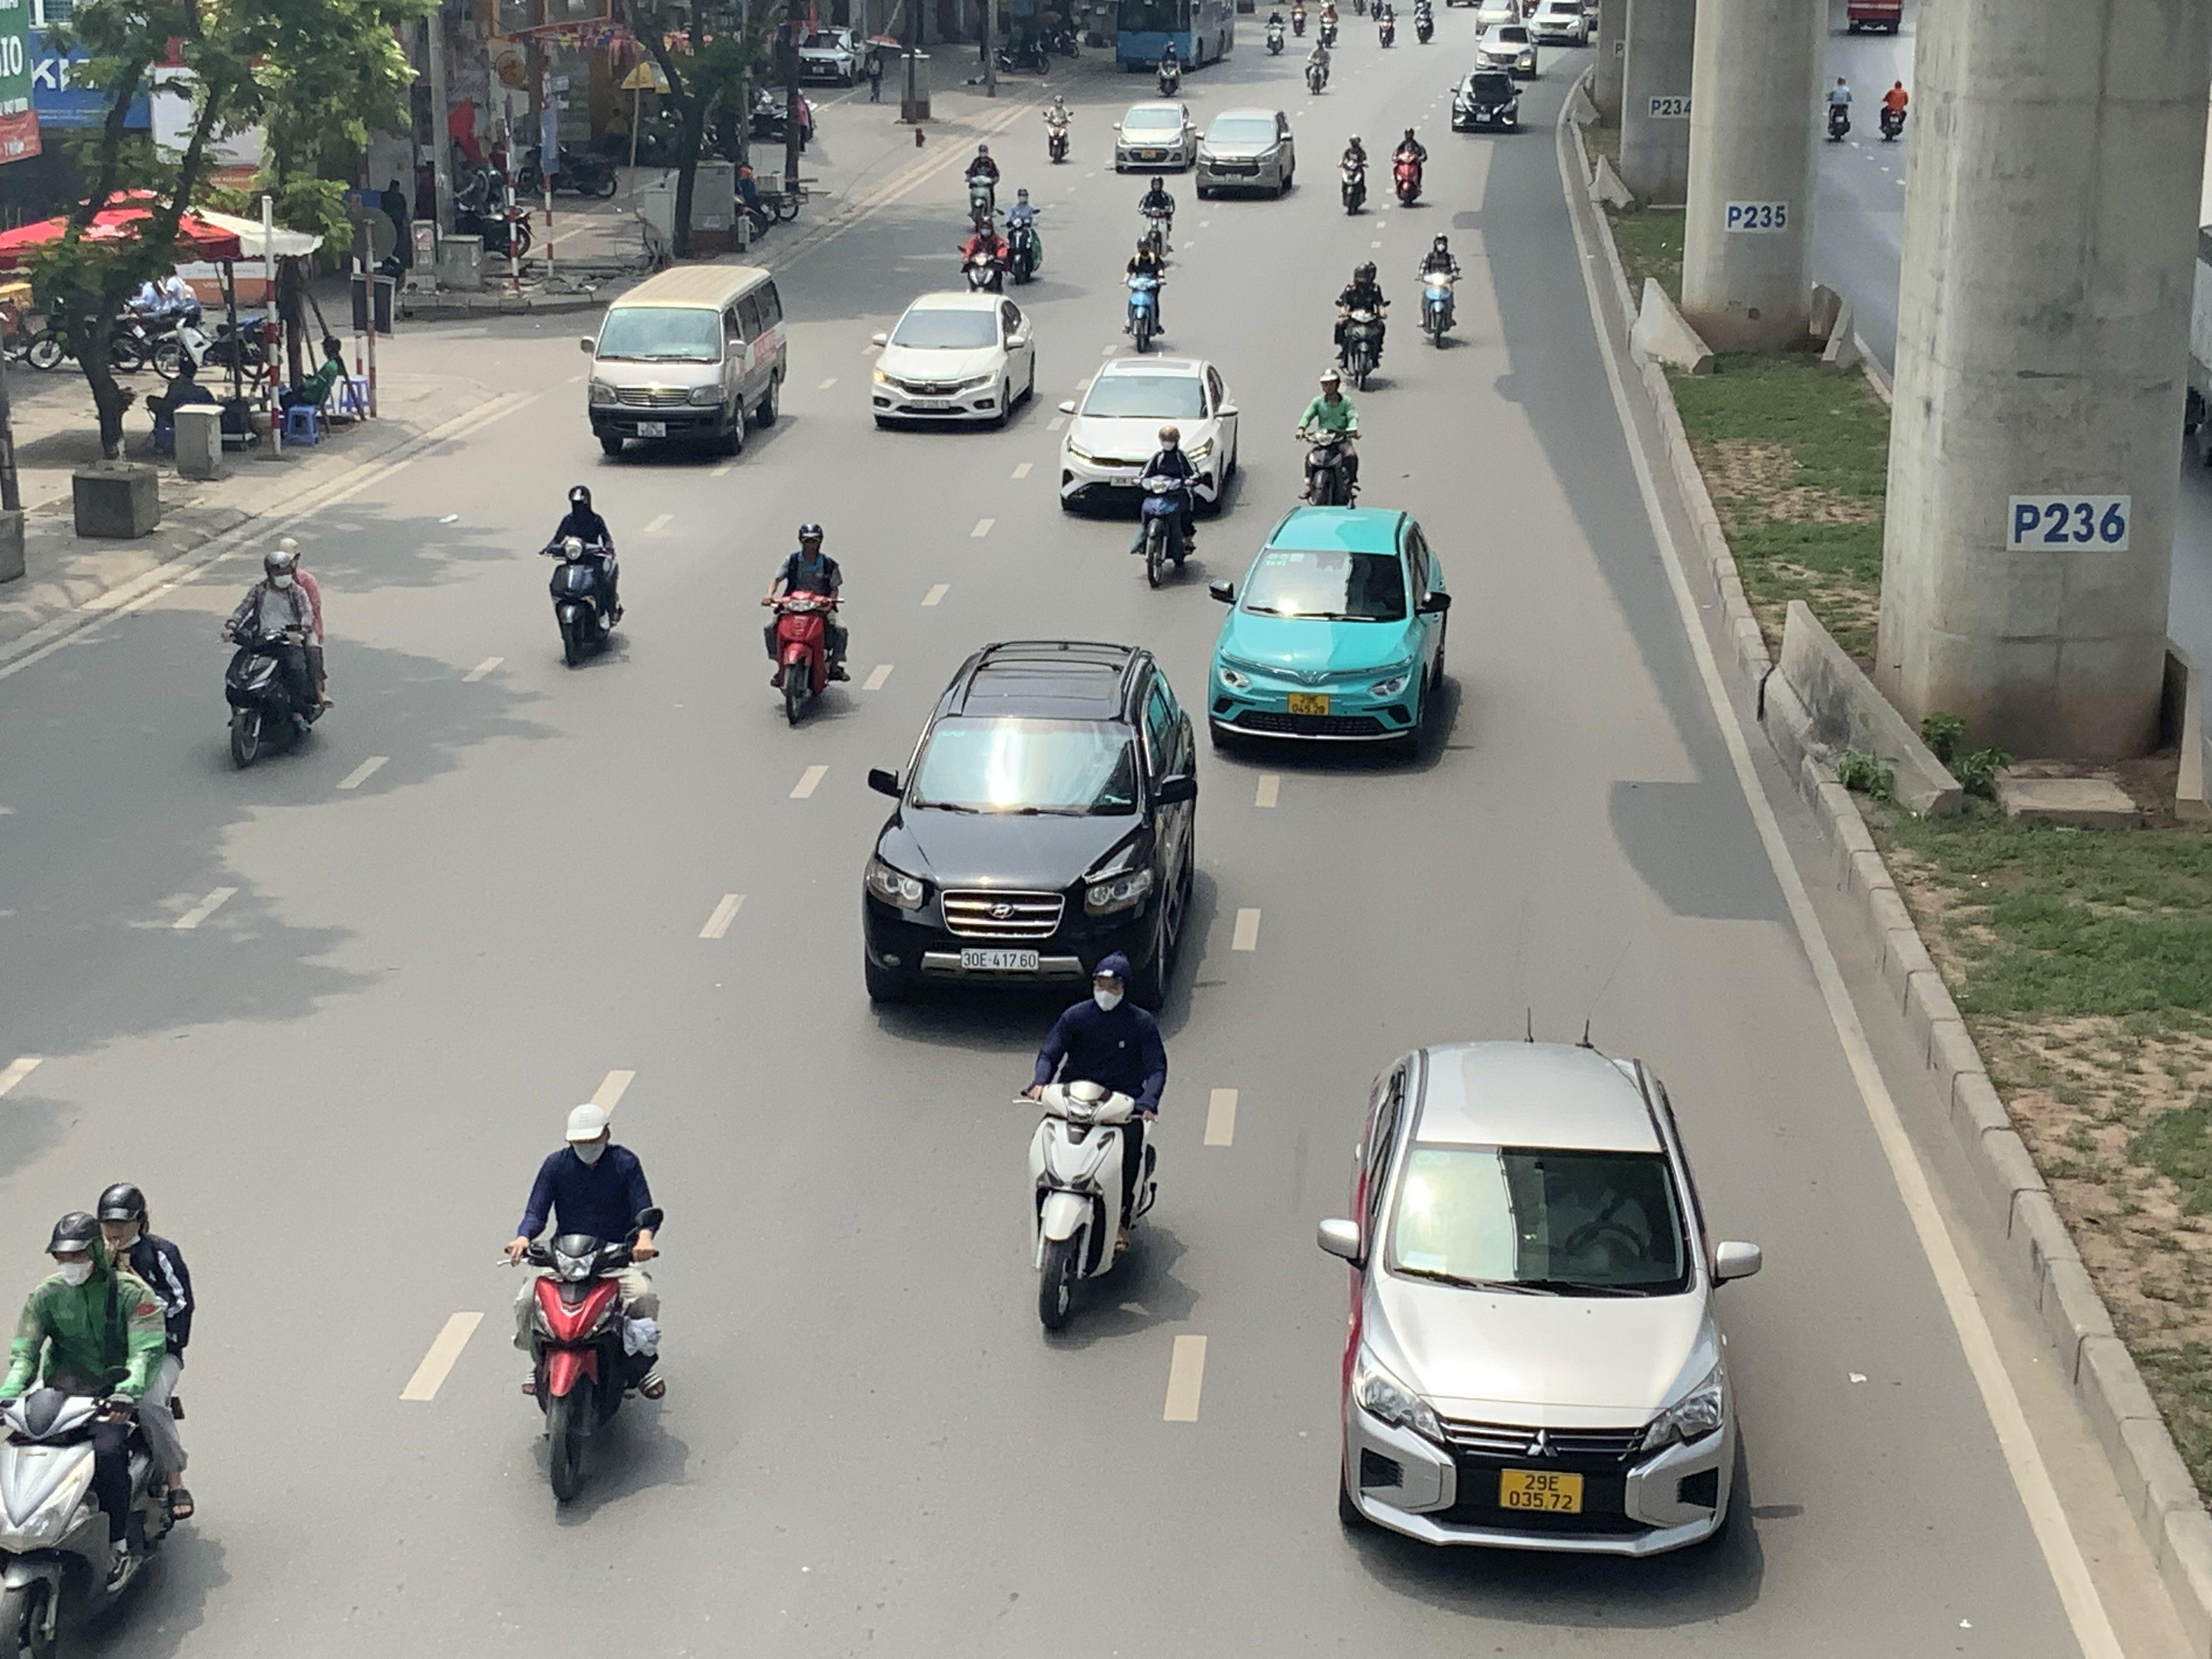BSD: (961, 950, 1036, 971)
BSV: (1500, 1471, 1583, 1513), (1287, 692, 1331, 718), (637, 422, 667, 437)
bus: (582, 261, 789, 464), (1111, 0, 1237, 73)
car: (1317, 1037, 1764, 1563), (859, 638, 1202, 1012), (1205, 504, 1454, 762), (1057, 354, 1244, 518), (869, 291, 1038, 430), (1191, 108, 1298, 200), (1113, 101, 1198, 173), (1451, 64, 1524, 132), (1475, 19, 1541, 77), (1526, 0, 1595, 47), (1844, 0, 1905, 35)
motorbike: (0, 1183, 195, 1659), (505, 1101, 665, 1511), (1021, 950, 1167, 1337), (221, 545, 331, 770), (763, 523, 852, 730), (543, 484, 625, 669), (1130, 425, 1202, 589), (111, 267, 206, 378), (1296, 373, 1364, 509), (1331, 261, 1390, 390), (1416, 230, 1463, 349), (1122, 234, 1169, 352), (960, 207, 1012, 295), (1001, 186, 1045, 286), (1136, 173, 1177, 267), (961, 143, 1001, 227), (1392, 124, 1428, 207), (1336, 131, 1371, 216), (1043, 89, 1075, 164), (1824, 71, 1855, 143), (1878, 75, 1909, 141), (1153, 38, 1186, 98), (1305, 31, 1334, 96), (1413, 0, 1435, 45)
